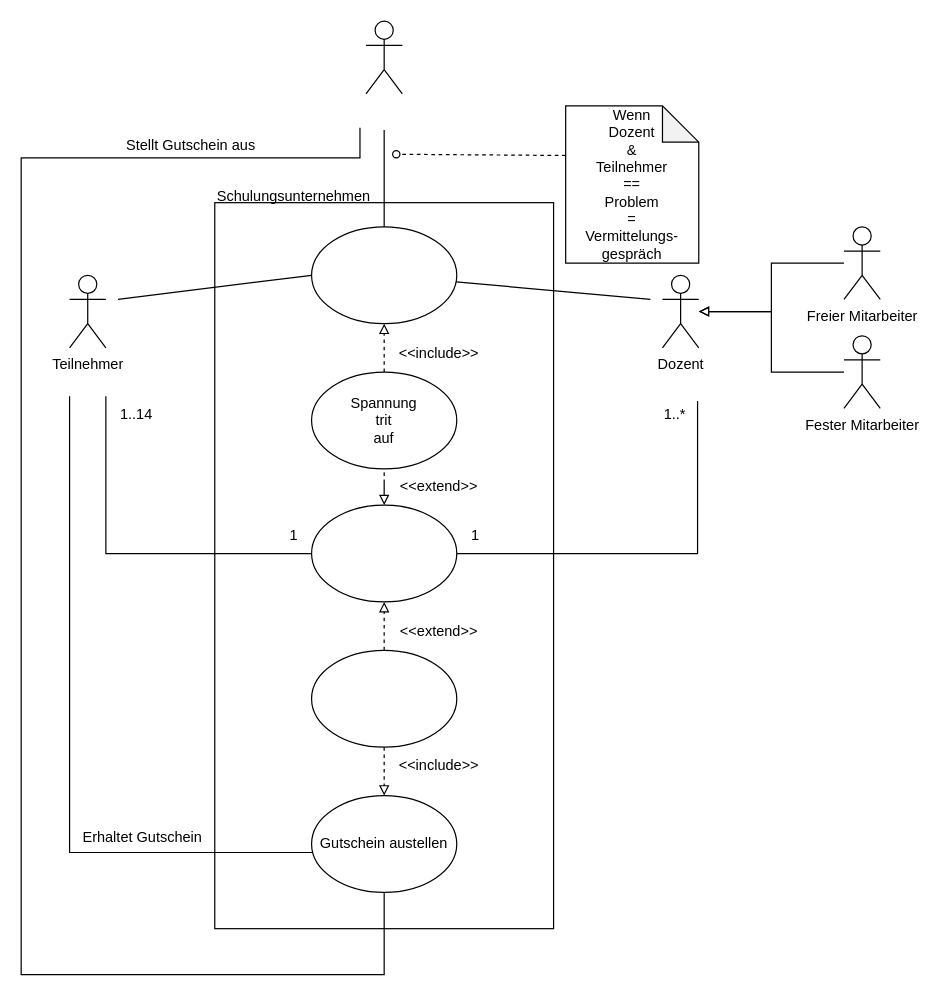
Image size: 940x997. Some labels were removed from this diagram. The shapes that lost their labels are listed below. From the top down, each one's box as (x1, y1, x2, y2) in pixels, then its label:
(365, 20, 402, 94): Schulungsleiter
(310, 226, 457, 324): Vermittelungs- gespräch
(310, 504, 457, 602): EDV-Kurs durchführen
(310, 649, 457, 747): Kurs wird abgebrochen
